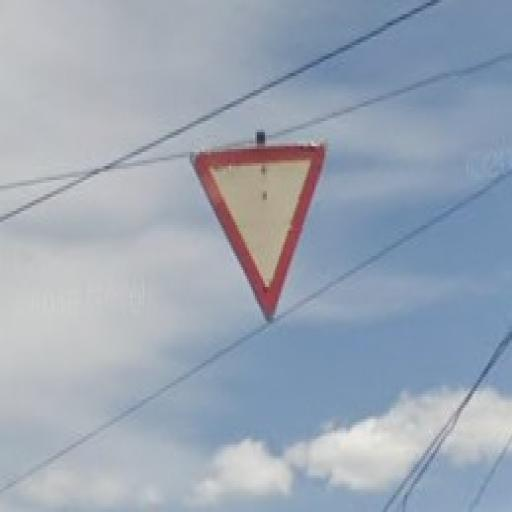traffic_sign: (189, 142, 327, 322)
